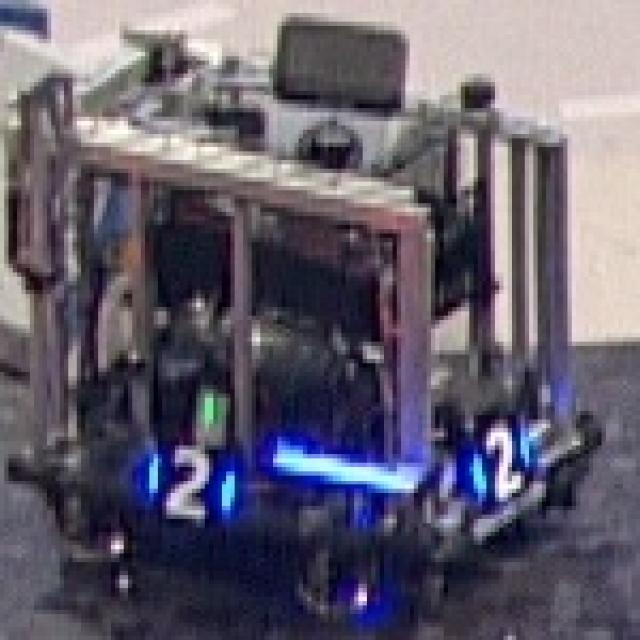B2: (141, 441, 239, 523), (465, 415, 529, 502)
